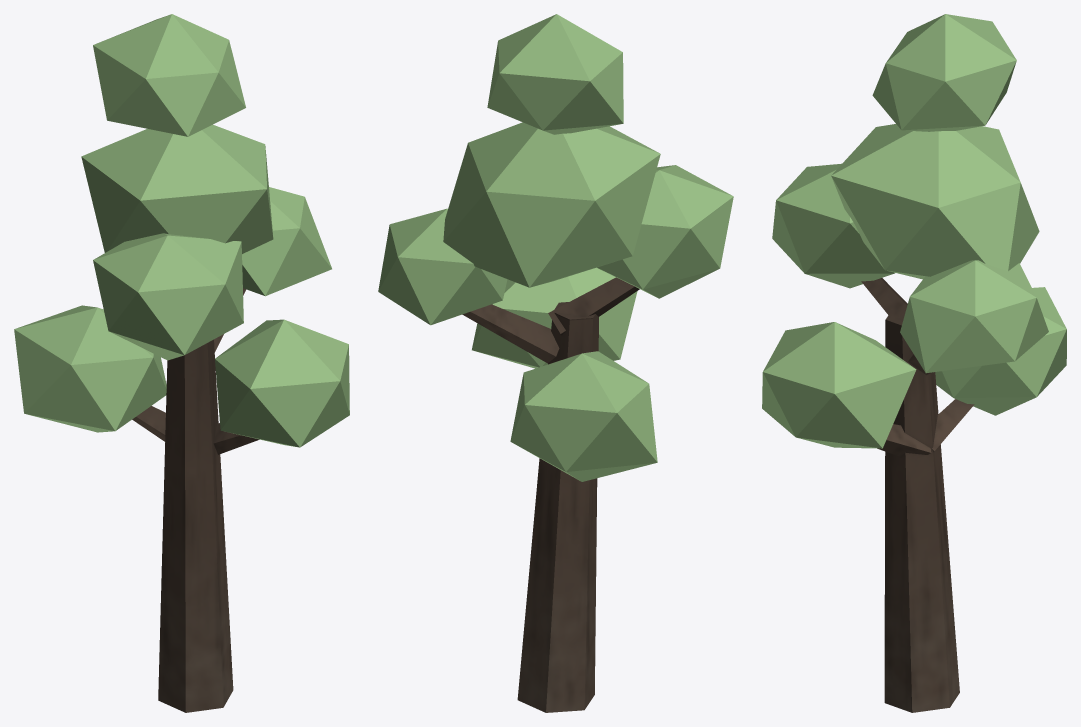
The model's file is arv_carvalho_1.glb.
3 renders of one model, left to right at view 1: azimuth 30°, elevation 25°; view 2: azimuth 150°, elevation 25°; view 3: azimuth 270°, elevation 25°, orthographic. The views are drawn at different scales.
Parts seen in each view (by area): view 1: arv_carvalho_1; view 2: arv_carvalho_1; view 3: arv_carvalho_1.
Part boxes in pixels (box(x1,y1,x2,y2)): arv_carvalho_1: box(14, 14, 349, 712); arv_carvalho_1: box(378, 14, 733, 712); arv_carvalho_1: box(762, 14, 1066, 712).
Bounding box in the file's own units: 0.8108 × 1.92 × 0.7799.
2 materials, 1 textured.
